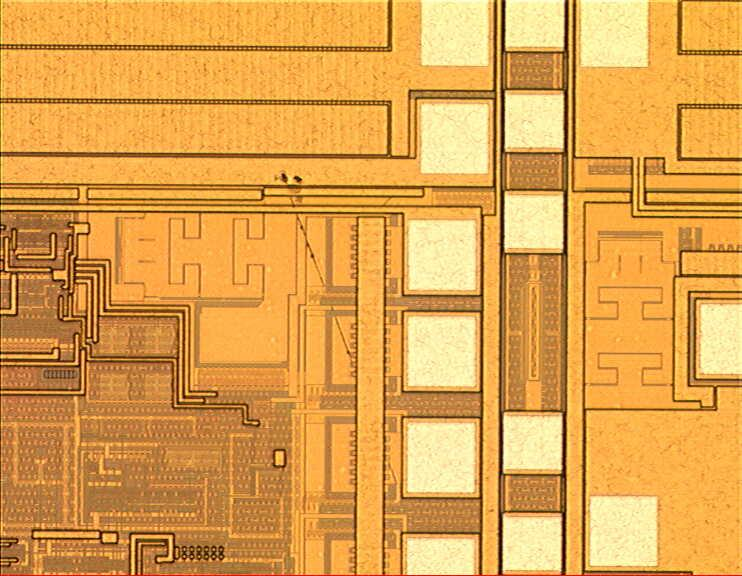SCRATCH: (261, 155, 373, 395)
